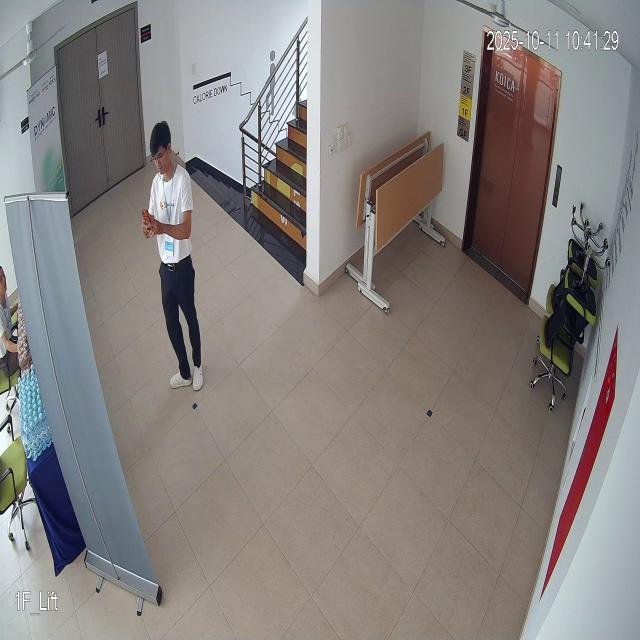face: (146, 113, 174, 182)
